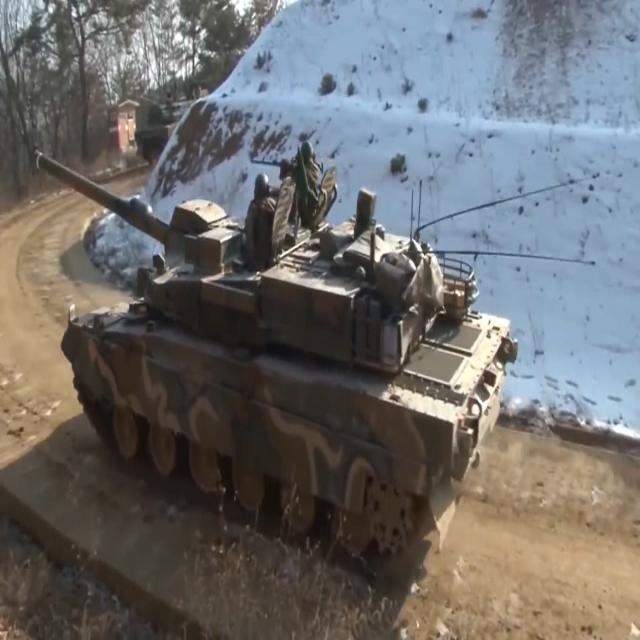korea tank: (30, 137, 520, 576)
